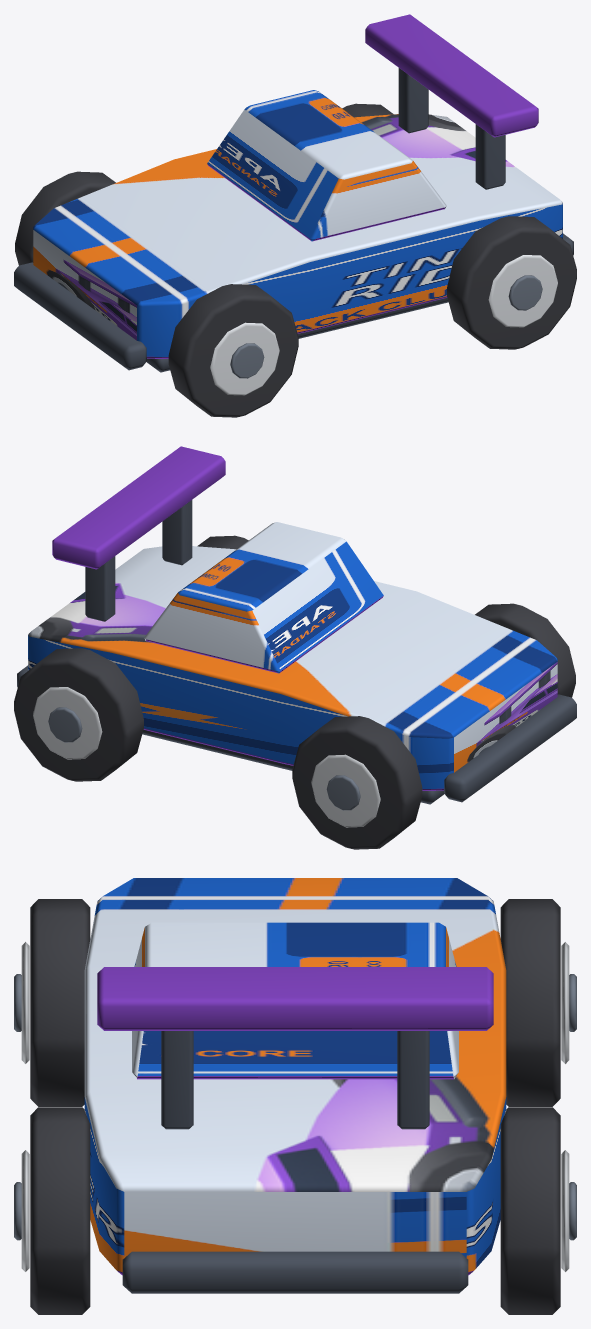
3 renders of one model, top to bottom at view 1: azimuth 30°, elevation 25°; view 2: azimuth 150°, elevation 25°; view 3: azimuth 270°, elevation 25°, orthographic. The views are drawn at different scales.
Parts seen in each view (by area): view 1: TC-05_connected_shell, TC-05_cabin, Tire, Tire.002, rear airfoil, front bumper, Rim, Rim.002, Tire.001, wing support, wing support.001, underbody (+3 smaller); view 2: TC-05_connected_shell, TC-05_cabin, Tire.001, Tire.003, rear airfoil, front bumper, Rim.001, Rim.003, Tire, wing support.001, wing support, underbody (+3 smaller); view 3: TC-05_connected_shell, TC-05_cabin, rear airfoil, rear bumper, Tire.002, Tire.003, Tire, Tire.001, wing support, wing support.001, Rim.002, Rim.003 (+2 smaller).
Boxes of the visible parts, x1,y1,x2,y2 form: TC-05_connected_shell: [33, 114, 562, 358]; TC-05_cabin: [207, 90, 446, 241]; Tire: [168, 284, 298, 417]; Tire.002: [447, 216, 576, 349]; rear airfoil: [365, 14, 538, 137]; front bumper: [14, 262, 146, 370]; Rim: [210, 322, 279, 395]; Rim.002: [488, 255, 557, 327]; Tire.001: [15, 171, 115, 265]; wing support: [475, 124, 505, 189]; wing support.001: [398, 68, 428, 133]; underbody: [146, 298, 448, 372]; TC-05_connected_shell: [28, 546, 557, 790]; TC-05_cabin: [144, 522, 383, 673]; Tire.001: [292, 716, 422, 849]; Tire.003: [14, 648, 143, 781]; rear airfoil: [52, 446, 225, 569]; front bumper: [444, 694, 576, 802]; Rim.001: [311, 754, 380, 827]; Rim.003: [33, 687, 102, 759]; Tire: [475, 603, 575, 697]; wing support.001: [85, 556, 115, 621]; wing support: [162, 500, 192, 565]; underbody: [142, 730, 444, 804]; TC-05_connected_shell: [84, 878, 506, 1275]; TC-05_cabin: [132, 922, 458, 1079]; rear airfoil: [97, 967, 493, 1030]; rear bumper: [122, 1251, 468, 1293]; Tire.002: [30, 1107, 90, 1314]; Tire.003: [500, 1107, 560, 1314]; Tire: [30, 899, 90, 1106]; Tire.001: [500, 899, 560, 1106]; wing support: [161, 1031, 193, 1129]; wing support.001: [397, 1031, 429, 1129]; Rim.002: [21, 1150, 29, 1271]; Rim.003: [561, 1150, 569, 1271].
Size of the model in its own units: 345 by 159 by 243.
